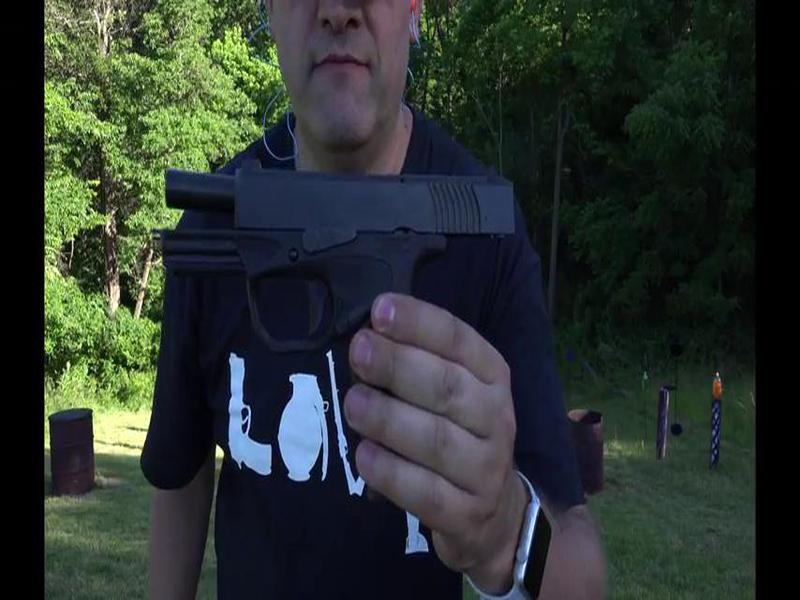Pistola: (151, 148, 532, 430)
